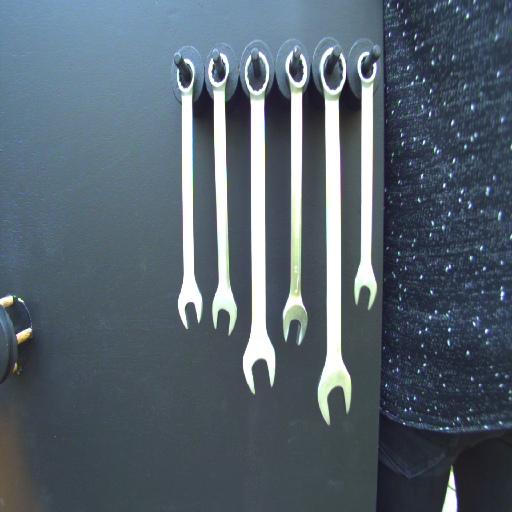bottom: (314, 362, 353, 427), (242, 337, 277, 397), (174, 284, 206, 331), (280, 297, 309, 347), (210, 287, 238, 337), (350, 266, 377, 312)
top: (318, 46, 347, 101), (243, 49, 271, 99), (204, 50, 231, 94), (283, 48, 309, 93), (171, 55, 199, 96), (355, 50, 380, 87)
